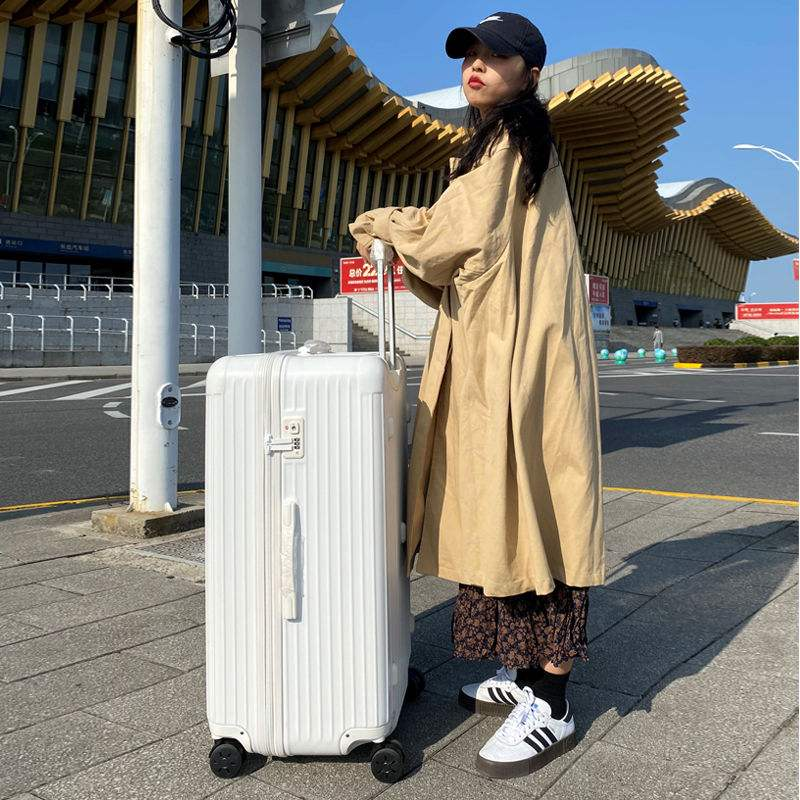box: (205, 351, 407, 754)
handle: (280, 502, 302, 620)
lock: (267, 417, 306, 459)
wheel: (370, 739, 405, 783), (209, 739, 247, 779)
